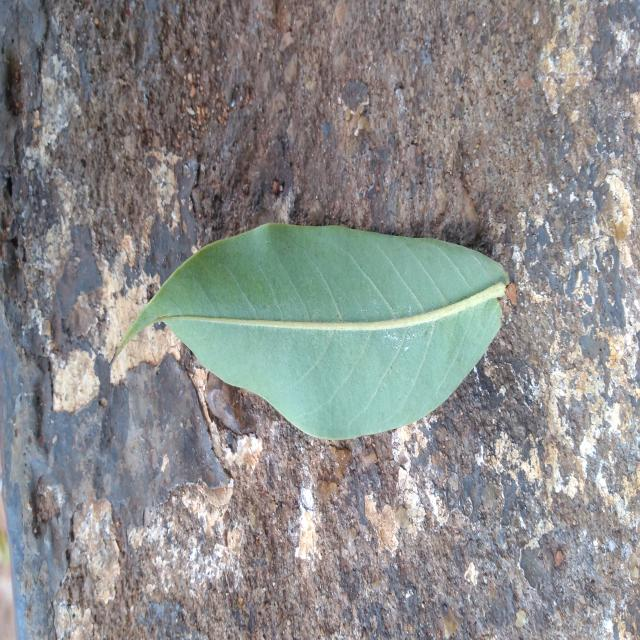sampige: (116, 224, 509, 440)
